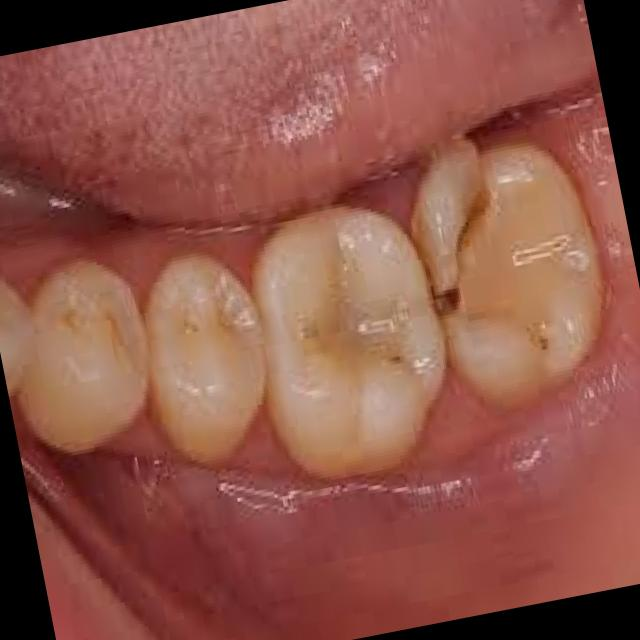Caries: (446, 288, 461, 313)
Tooth: (248, 205, 446, 475), (406, 141, 602, 404), (18, 254, 153, 457), (145, 253, 268, 466)
